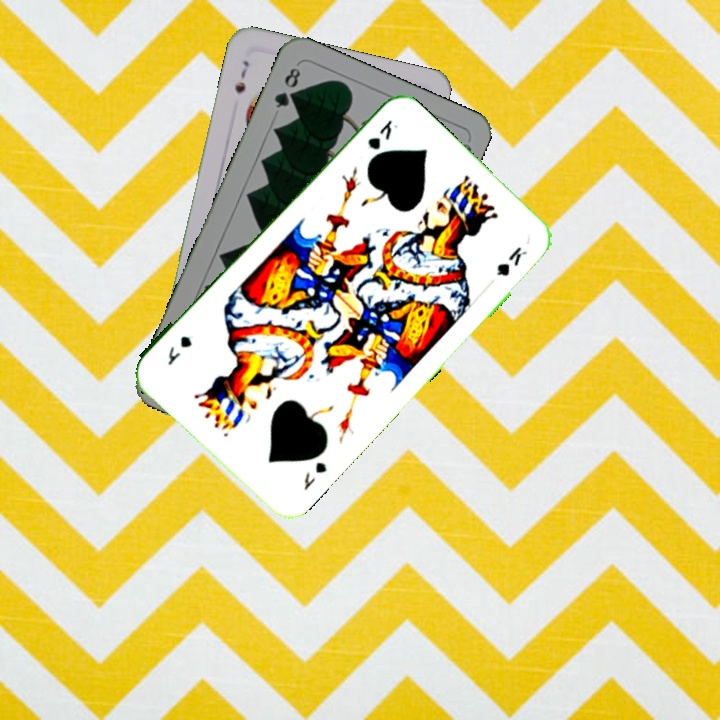G8: (270, 63, 303, 111)
GK: (363, 115, 401, 153), (299, 457, 330, 494)
S7: (230, 56, 252, 96)
